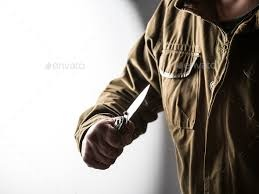knife: (110, 83, 150, 129)
